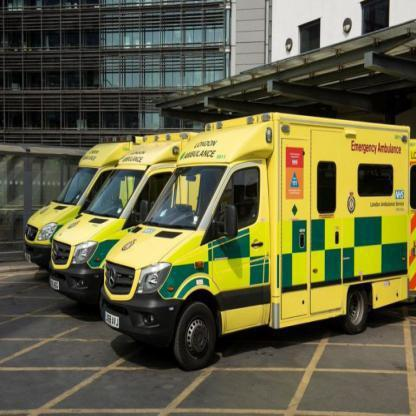Ambulance - v1 Ambulance last generate: (93, 101, 415, 360), (41, 117, 221, 311), (15, 135, 128, 276)
